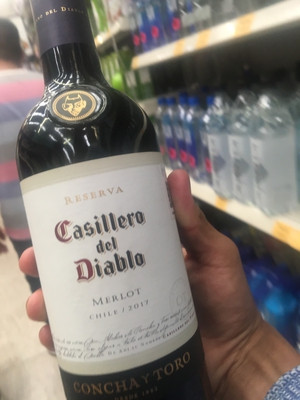casillero del diablo merlot: (14, 3, 212, 400)
